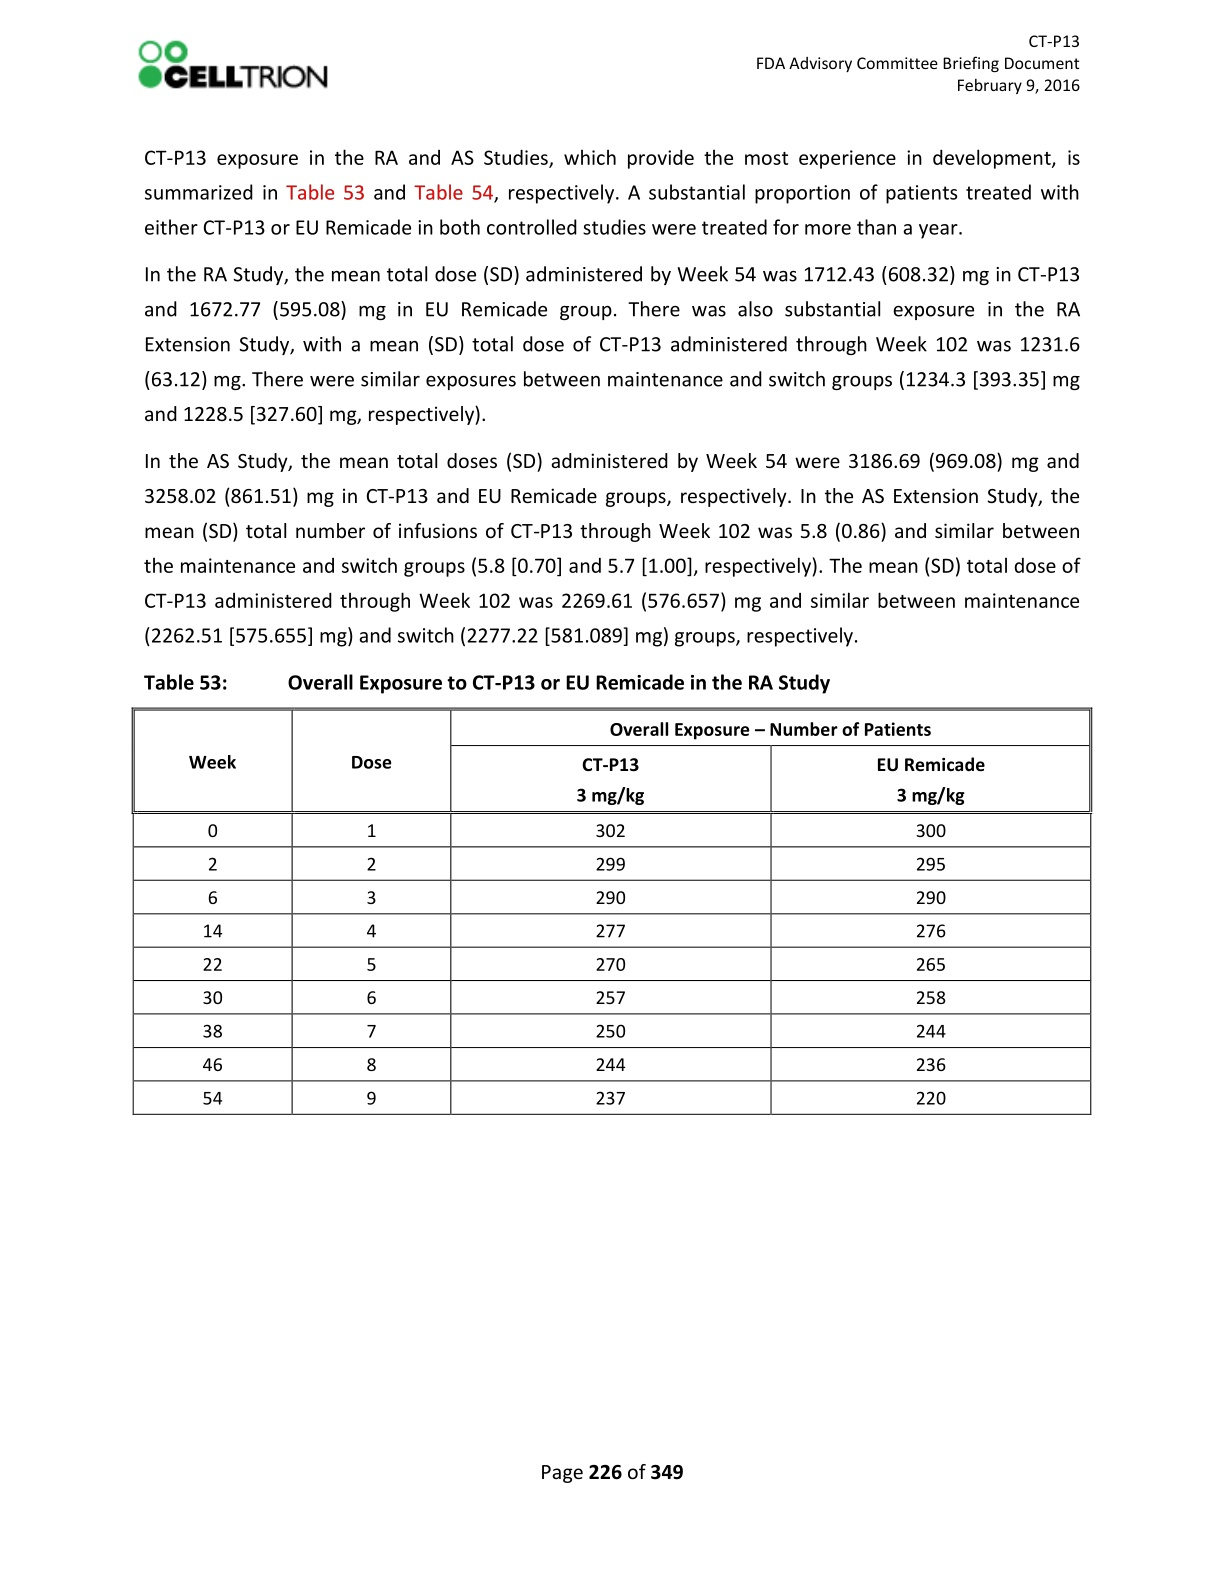merged_cells: (131, 706, 1093, 1116)
